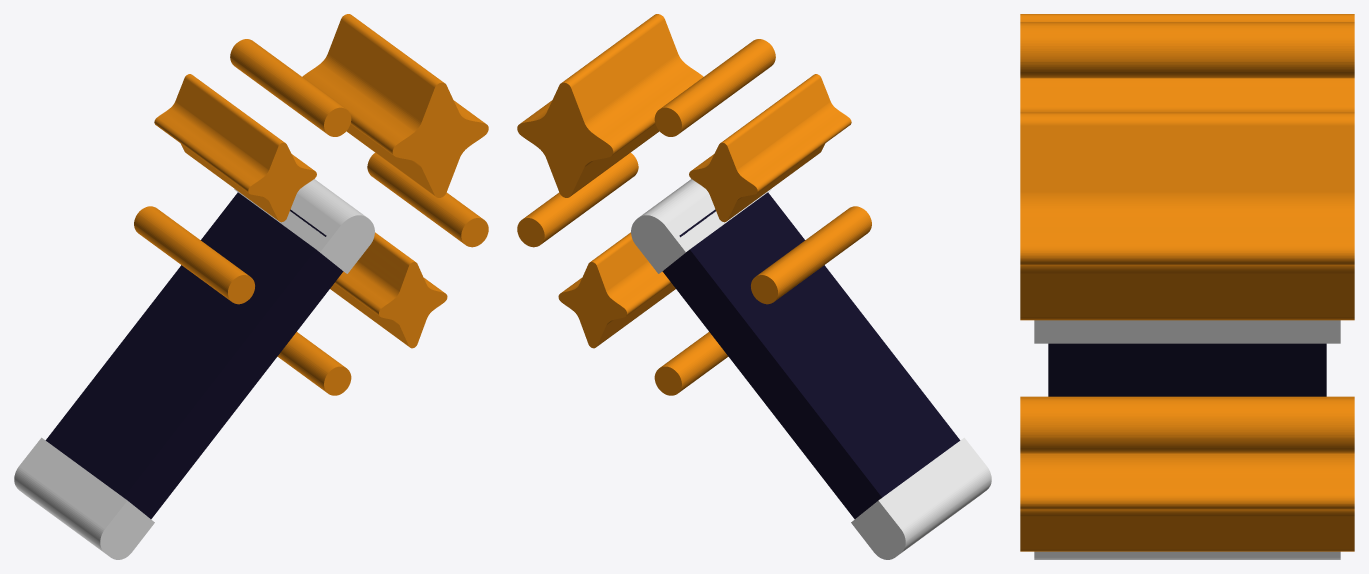
The picture shows the model from 3 angles, left to right: view 1: azimuth 30°, elevation 25°; view 2: azimuth 150°, elevation 25°; view 3: azimuth 270°, elevation 25°; orthographic projection. The views are drawn at different scales.
Visible parts, largest first — view 1: U+1FA84_layer02_obj00, U+1FA84_layer00_obj00, U+1FA84_layer01_obj00; view 2: U+1FA84_layer02_obj00, U+1FA84_layer00_obj00, U+1FA84_layer01_obj00; view 3: U+1FA84_layer02_obj00, U+1FA84_layer00_obj00, U+1FA84_layer01_obj00.
Boxes of the visible parts, bbox=[...] form: U+1FA84_layer02_obj00: bbox=[134, 14, 488, 395]; U+1FA84_layer00_obj00: bbox=[45, 192, 343, 518]; U+1FA84_layer01_obj00: bbox=[14, 179, 374, 559]; U+1FA84_layer02_obj00: bbox=[517, 14, 871, 395]; U+1FA84_layer00_obj00: bbox=[662, 192, 960, 518]; U+1FA84_layer01_obj00: bbox=[631, 179, 991, 559]; U+1FA84_layer02_obj00: bbox=[1020, 14, 1354, 551]; U+1FA84_layer00_obj00: bbox=[1048, 343, 1326, 396]; U+1FA84_layer01_obj00: bbox=[1034, 320, 1340, 559].
Size of the model in its own units: 0.5678 by 0.568 by 0.24.
